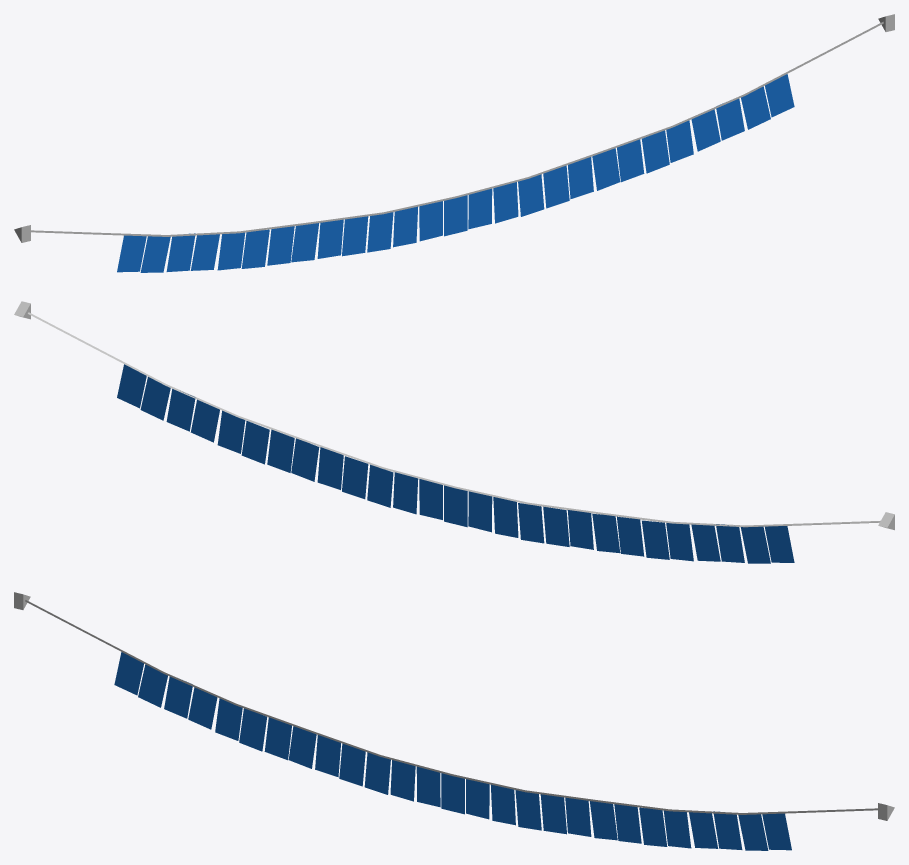
Rendered from SM_ribbon.fbx.
3 renders of one model, top to bottom at view 1: azimuth 30°, elevation 25°; view 2: azimuth 150°, elevation 25°; view 3: azimuth 330°, elevation 25°, orthographic.
Visible parts, largest first — view 1: Symmetry_8; view 2: Symmetry_8; view 3: Symmetry_8.
Boxes of the visible parts, x1,y1,x2,y2 form: Symmetry_8: (14, 14, 894, 272); Symmetry_8: (14, 301, 894, 563); Symmetry_8: (14, 592, 894, 850).
Size of the model in its own units: 642 by 80.62 by 9.73.
